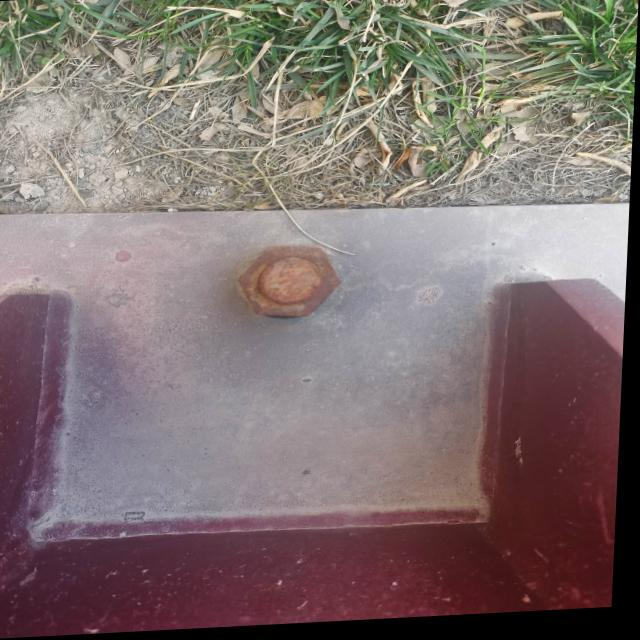Rusty bolt: (242, 245, 347, 323)
